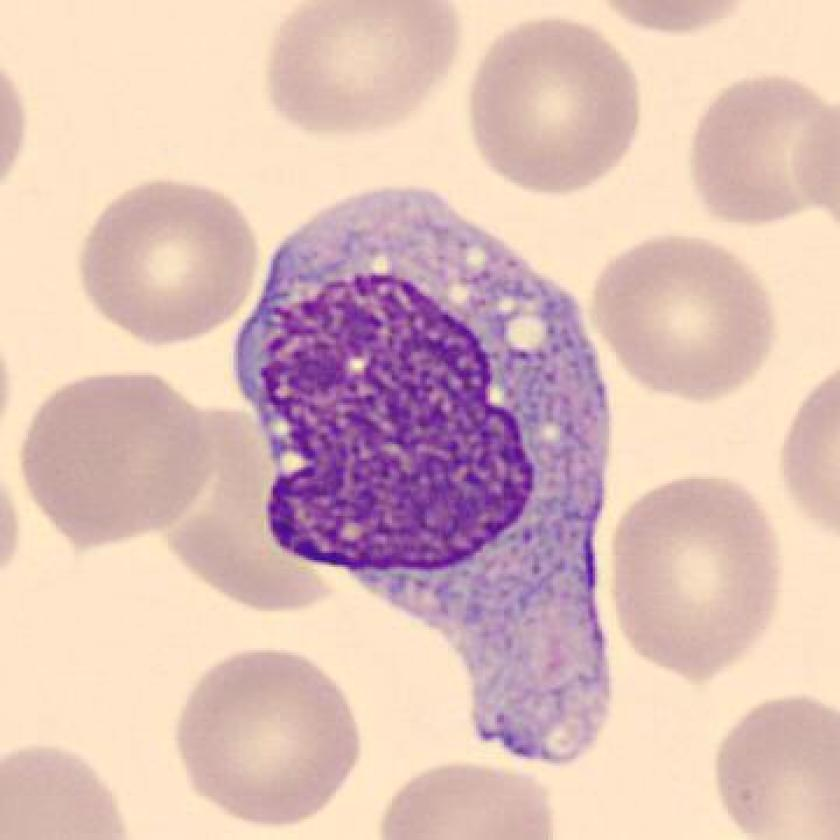monocyte: (221, 166, 641, 779)
